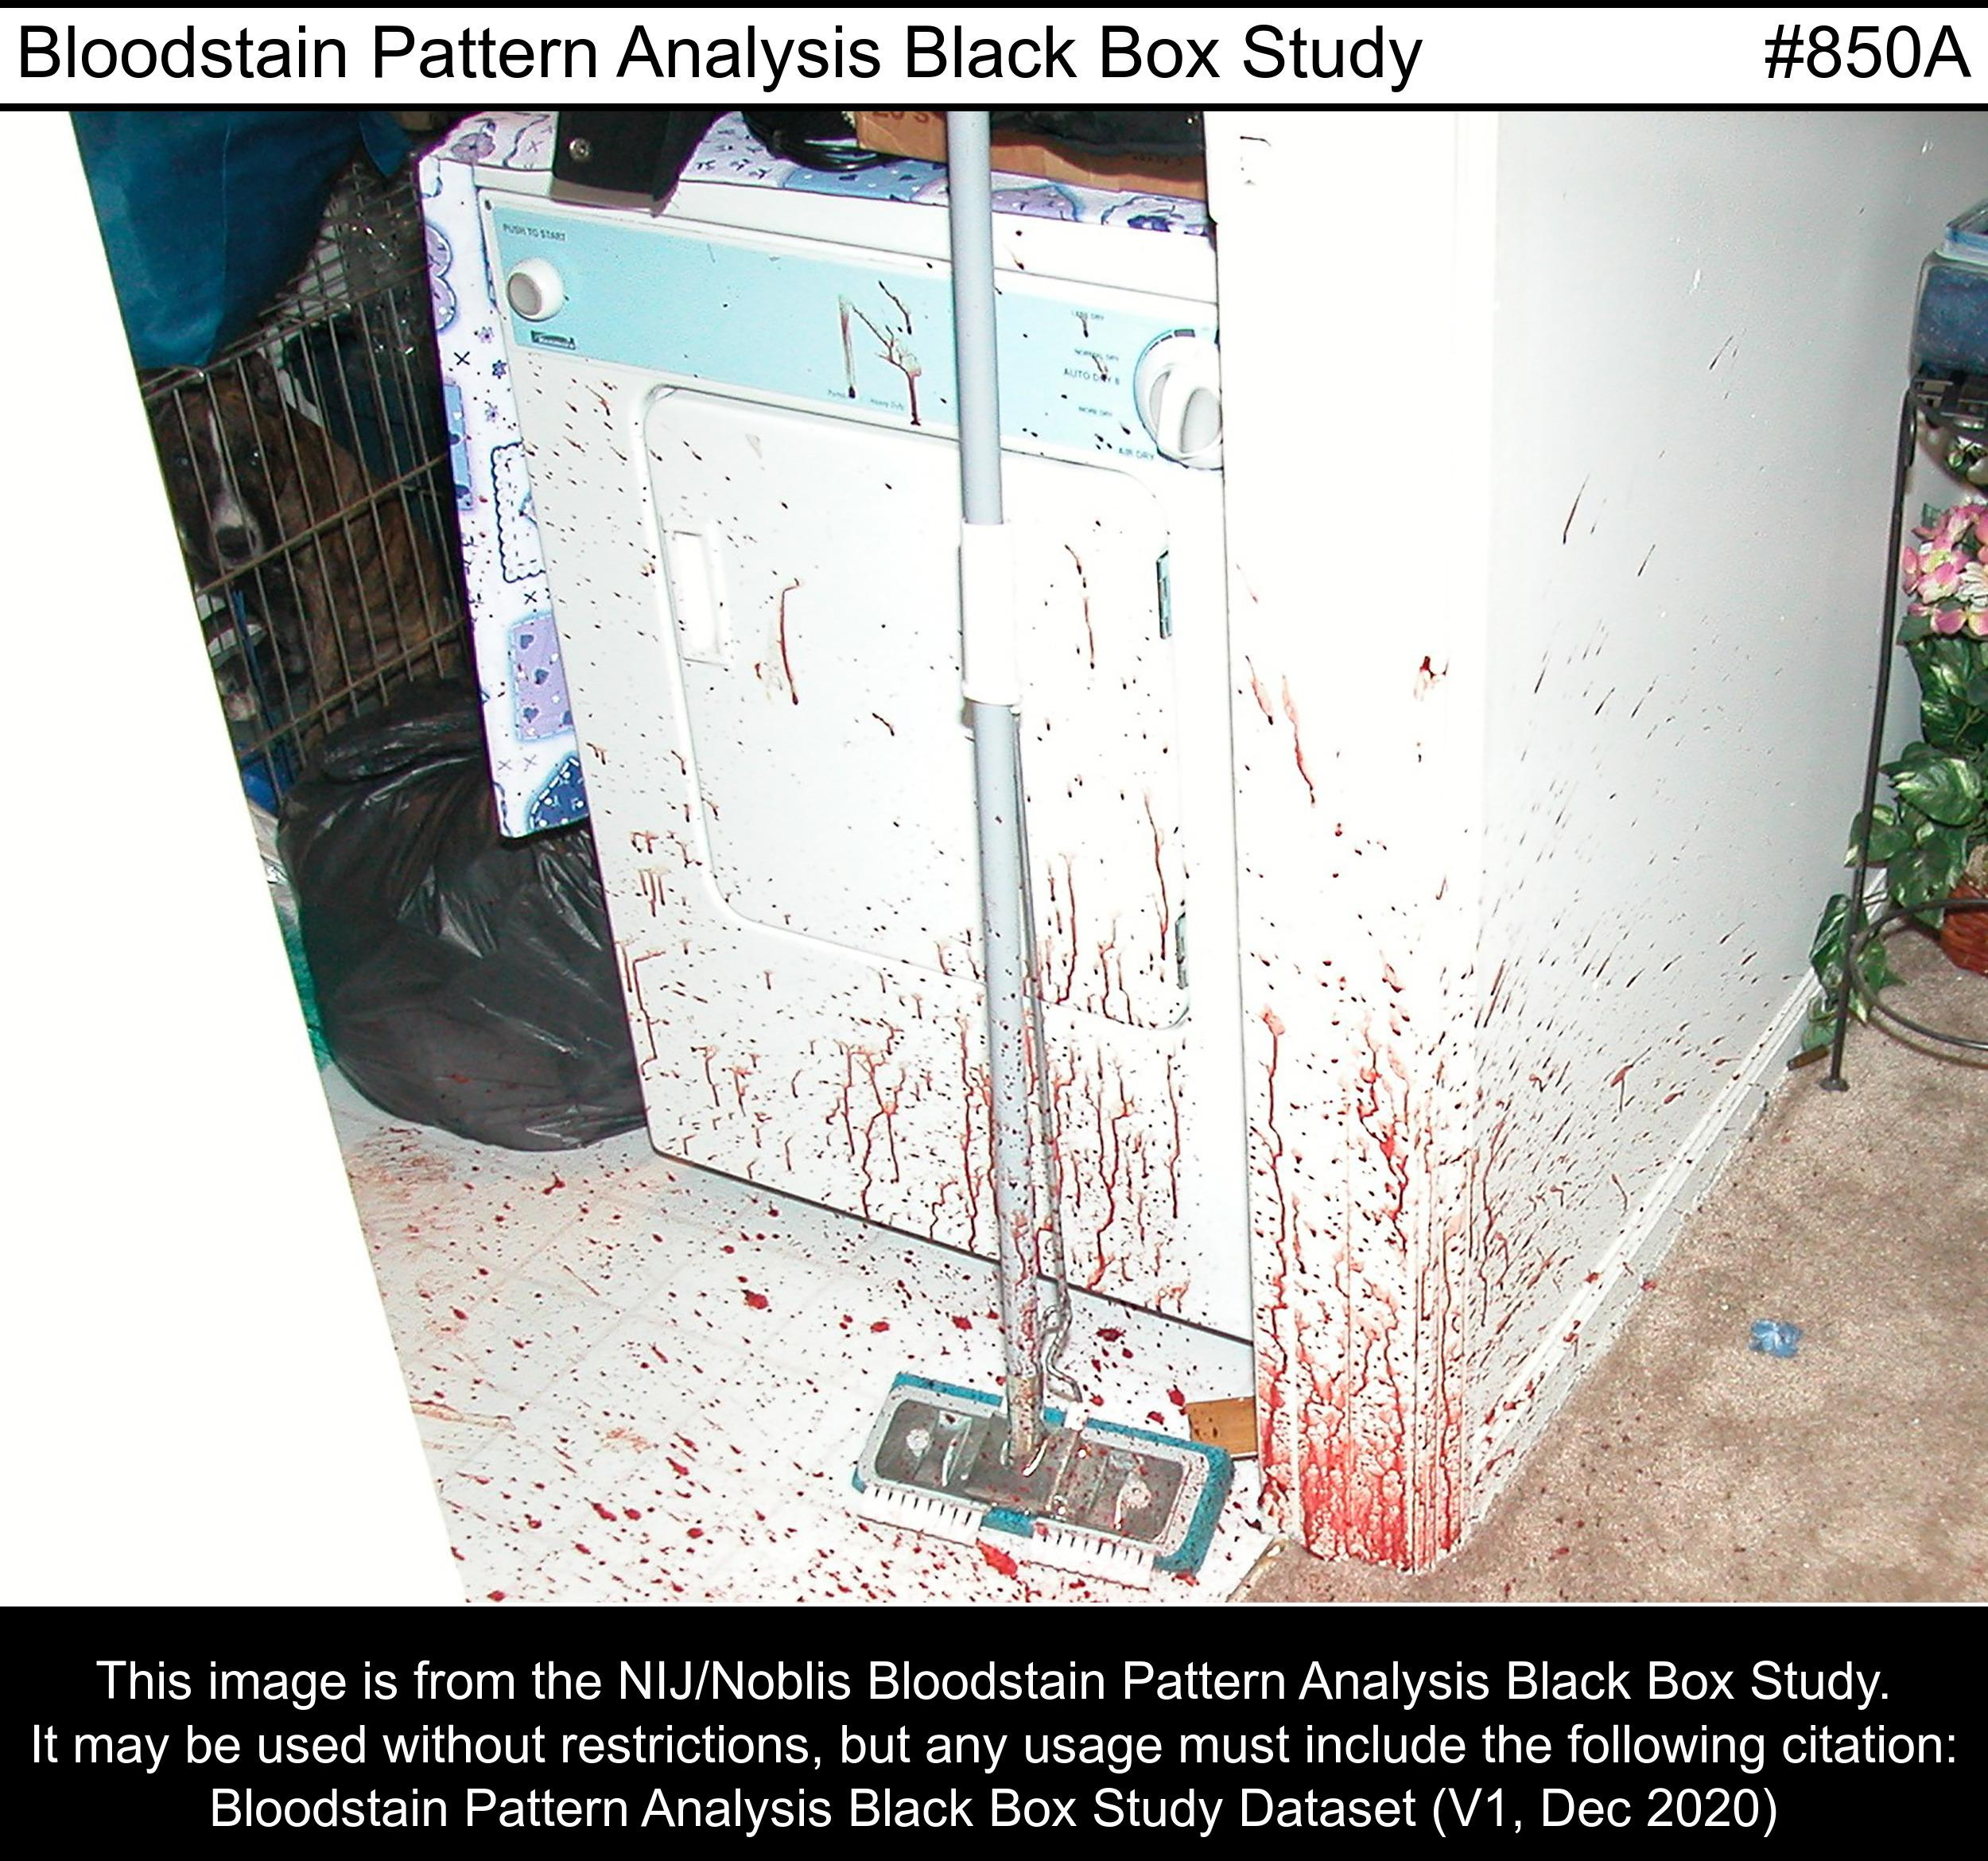Impact: (1226, 593, 1764, 1600), (351, 600, 806, 1600), (825, 729, 1227, 1574)
